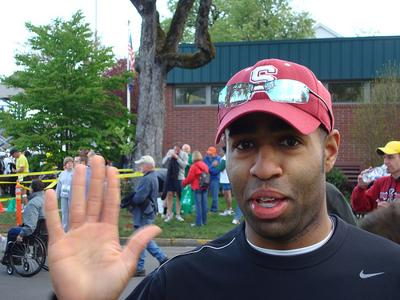person: (45, 58, 400, 300)
